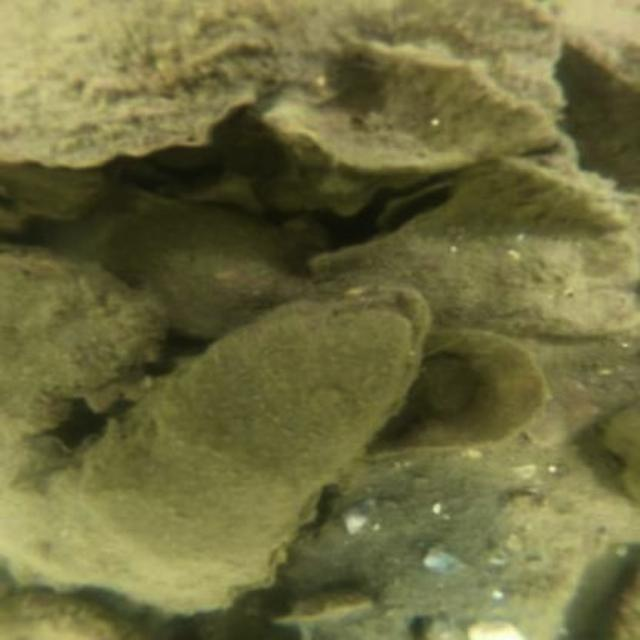Oyster-Closed: (53, 283, 438, 604), (0, 0, 579, 168), (285, 470, 615, 638), (312, 165, 631, 334), (247, 55, 583, 212), (5, 242, 164, 437), (353, 326, 555, 464), (103, 200, 299, 329), (446, 154, 630, 234)
